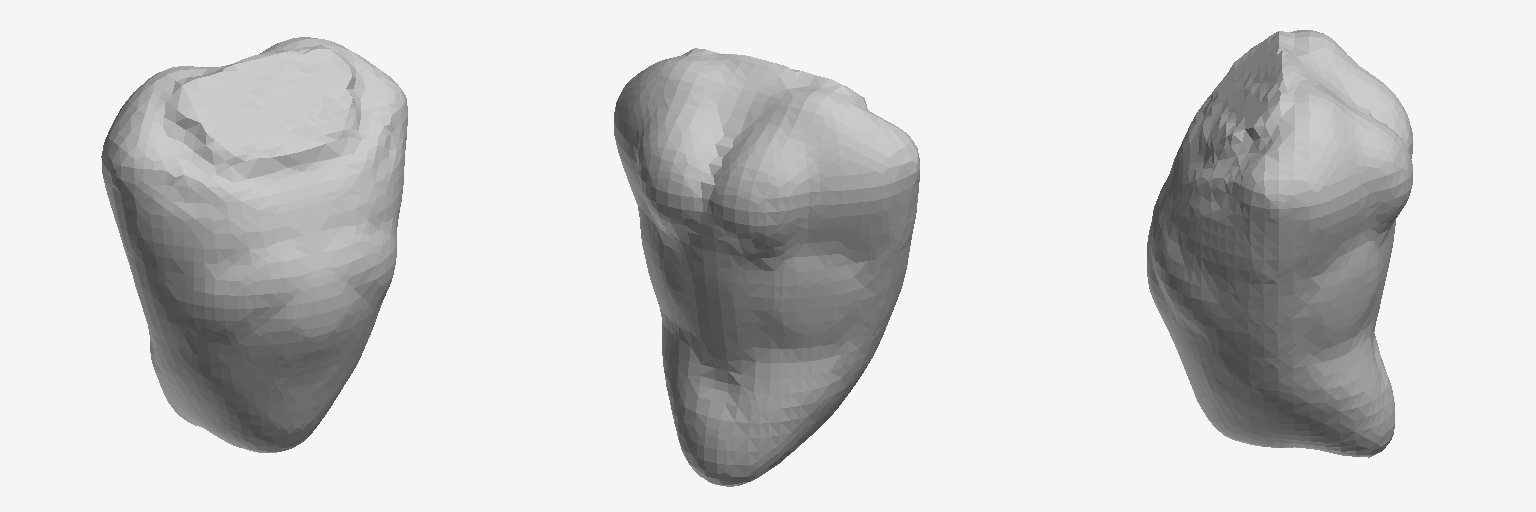
File: ENEMY_BODY.obj
3 views of the same model, side by side, from view 1: azimuth 30°, elevation 25°; view 2: azimuth 150°, elevation 25°; view 3: azimuth 270°, elevation 25° (orthographic).
Visible parts, largest first — view 1: 球.003; view 2: 球.003; view 3: 球.003.
Part boxes in pixels (bbox=[...]): 球.003: bbox=[101, 37, 407, 452]; 球.003: bbox=[614, 48, 919, 486]; 球.003: bbox=[1147, 30, 1412, 457].
Size of the model in its own units: 0.5117 by 0.6553 by 0.404.